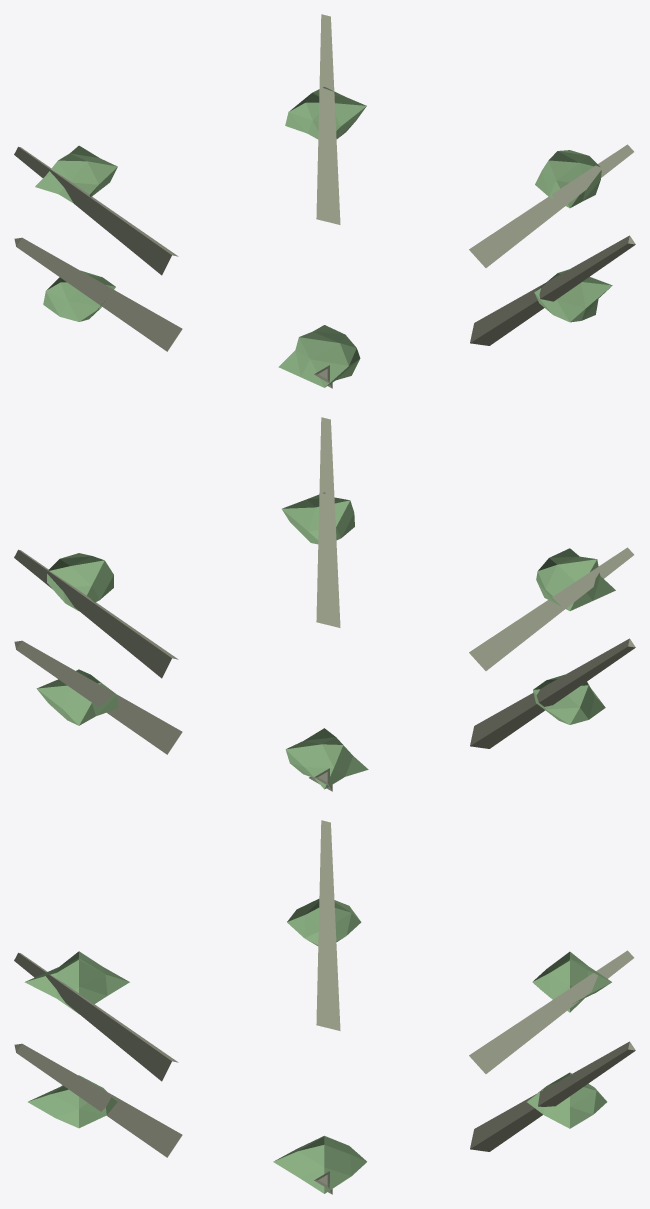
The model's file is bramble_v23.glb.
3 views of the same model, one above another, from view 1: azimuth 30°, elevation 25°; view 2: azimuth 150°, elevation 25°; view 3: azimuth 270°, elevation 25° (orthographic).
Parts seen in each view (by area): view 1: lod0; view 2: lod0; view 3: lod0.
Boxes of the visible parts, <box> form: lod0: <box>14,14,635,388</box>; lod0: <box>14,417,635,791</box>; lod0: <box>14,820,635,1194</box>.
Size of what is drawn, in the model's own units: 1.11 by 0.2562 by 0.9691.
